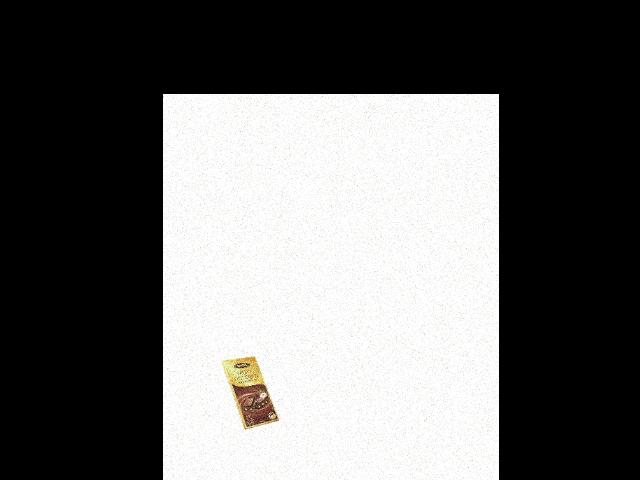chocolate: (219, 355, 279, 436)
